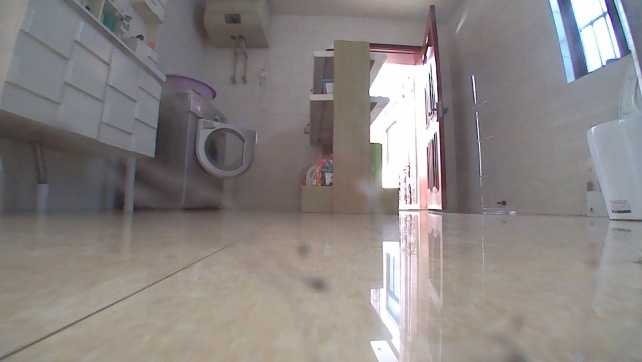toilet: (580, 64, 640, 224)
washing_machine: (133, 83, 260, 213)
washstand: (0, 1, 163, 165)
